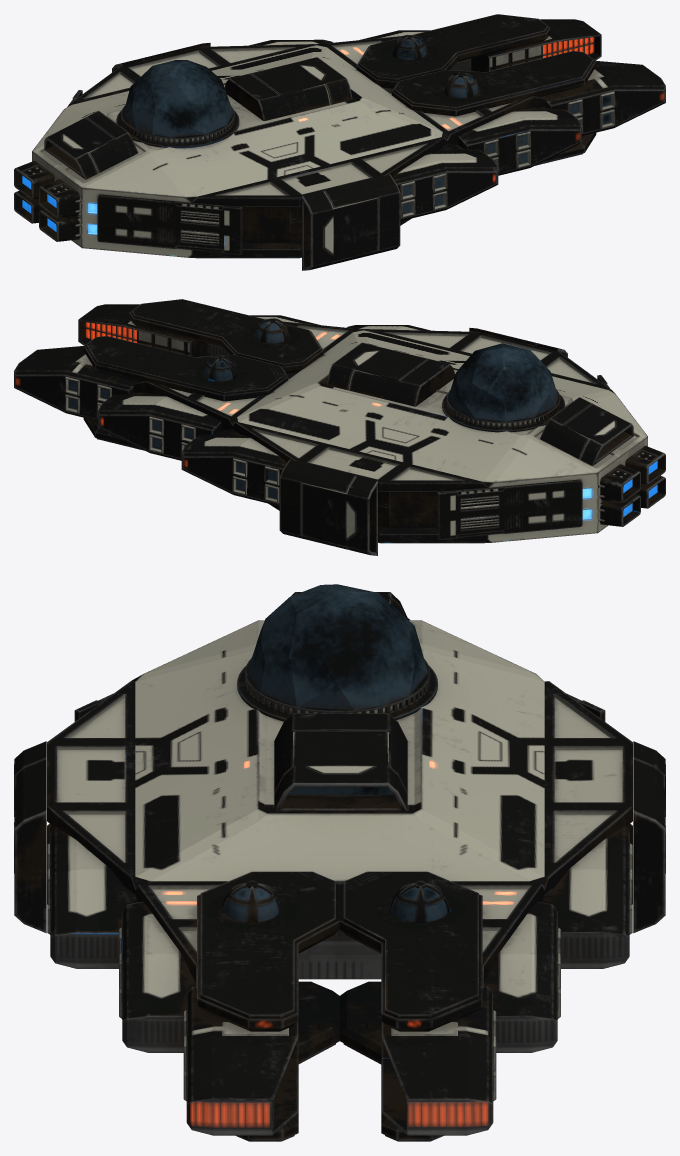
Rendered from nave.glb.
3 views of the same model, one above another, from view 1: azimuth 30°, elevation 25°; view 2: azimuth 150°, elevation 25°; view 3: azimuth 270°, elevation 25° (orthographic). The views are drawn at different scales.
Visible parts, largest first — view 1: Space_Ship_04; view 2: Space_Ship_04; view 3: Space_Ship_04.
Boxes of the visible parts, x1,y1,x2,y2 form: Space_Ship_04: (14, 14, 665, 270); Space_Ship_04: (14, 299, 665, 555); Space_Ship_04: (14, 584, 665, 1141).
Size of the model in its own units: 40.85 by 10.94 by 24.1.
Materials: 1 (1 with a texture image).
